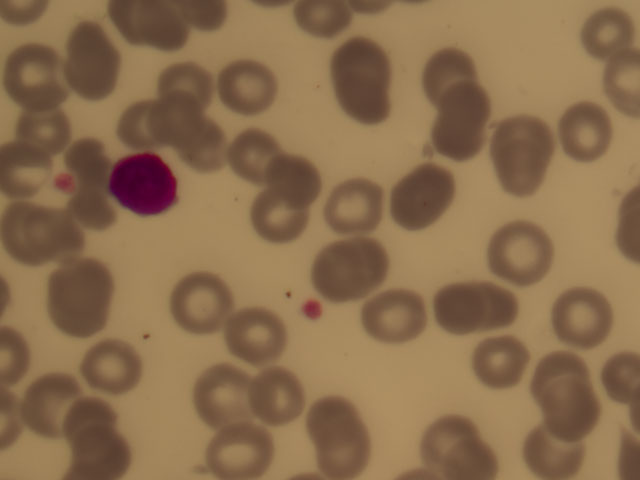Platelets: (300, 294, 328, 326), (49, 174, 77, 195)
RBC: (61, 23, 135, 94), (7, 35, 81, 106), (5, 85, 79, 156), (6, 204, 80, 275), (49, 262, 123, 333), (67, 337, 141, 408), (25, 362, 99, 433), (56, 398, 130, 469), (187, 364, 261, 435), (240, 361, 314, 432), (211, 298, 285, 369), (165, 269, 239, 340), (259, 141, 333, 212), (246, 175, 320, 246), (221, 122, 295, 193), (187, 113, 261, 184), (145, 87, 219, 158), (105, 81, 179, 152), (134, 47, 208, 118), (197, 49, 271, 120), (330, 26, 404, 97), (394, 157, 468, 228), (326, 169, 400, 240), (310, 230, 384, 301), (358, 283, 432, 354), (414, 276, 488, 347), (490, 218, 564, 289), (487, 117, 561, 188), (433, 89, 507, 160), (412, 43, 486, 114), (550, 92, 624, 163), (549, 279, 623, 350), (466, 323, 540, 394), (518, 329, 592, 400), (536, 372, 610, 443), (506, 409, 580, 480), (417, 406, 491, 477), (306, 396, 380, 467), (202, 423, 274, 480)
WBC: (107, 146, 180, 217)
